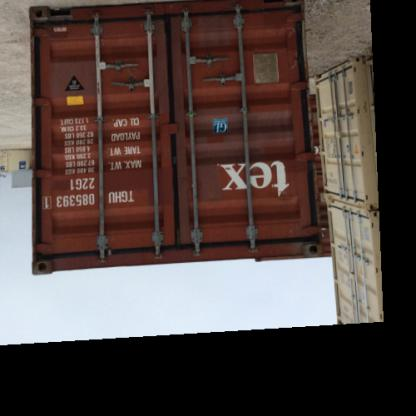Damage: (284, 22, 306, 76), (284, 226, 299, 238)
